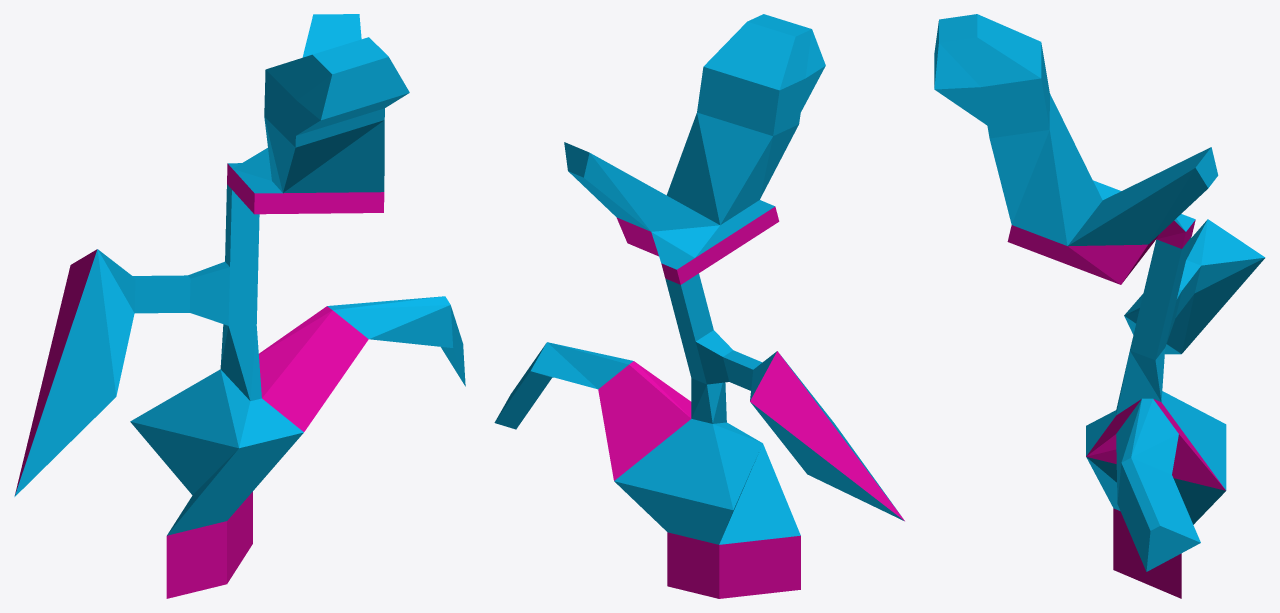
Rendered from tower 5 ex2.dae.
The picture shows the model from 3 angles, left to right: view 1: azimuth 30°, elevation 25°; view 2: azimuth 150°, elevation 25°; view 3: azimuth 270°, elevation 25°; orthographic projection. The views are drawn at different scales.
Parts seen in each view (by area): view 1: Cube; view 2: Cube; view 3: Cube.
Part boxes in pixels (x1,y1,x2,y2): Cube: [14, 14, 465, 598]; Cube: [494, 14, 904, 598]; Cube: [934, 14, 1265, 598].
Size of the model in its own units: 15.01 by 9.72 by 18.37.
